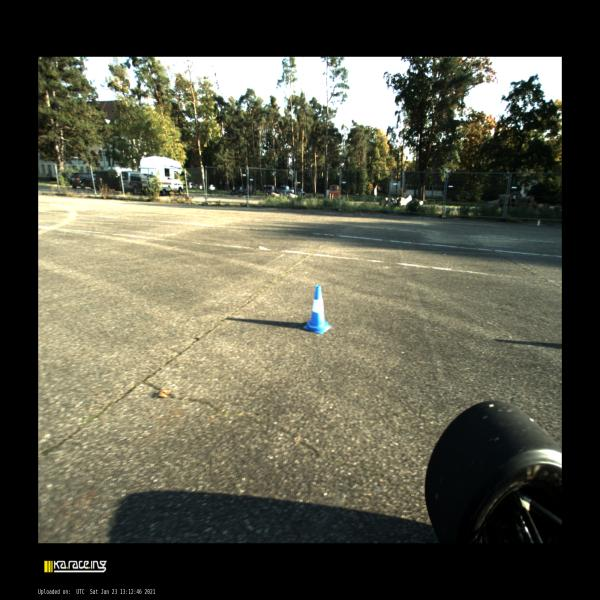blue_cone: (303, 286, 332, 335)
